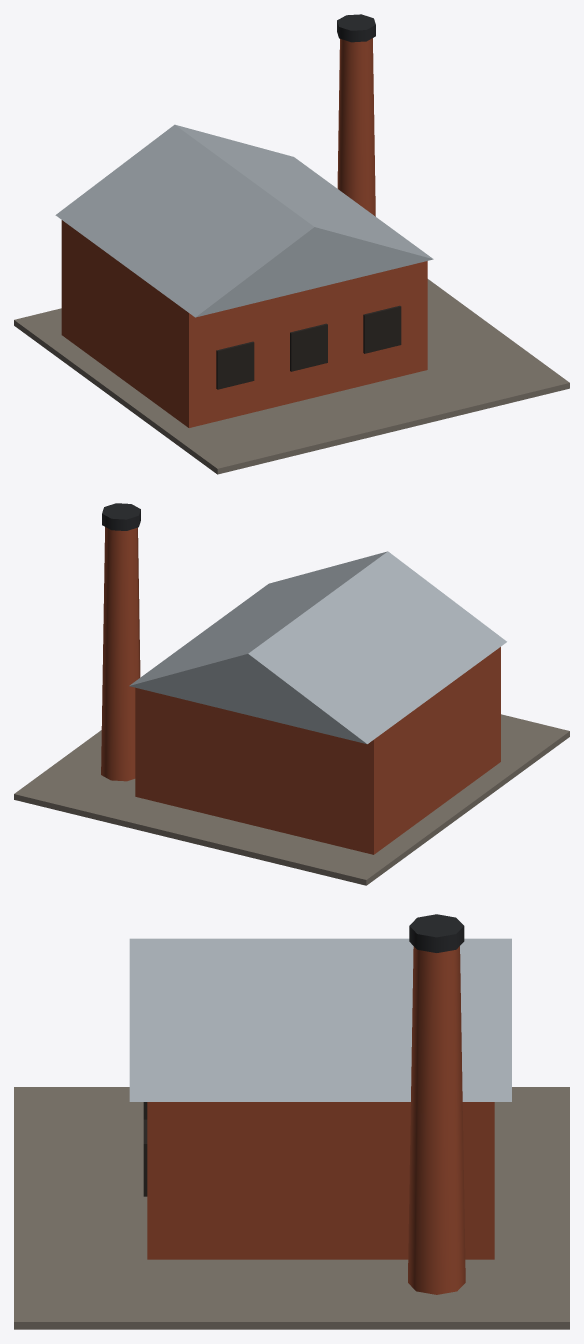
The model's file is zone_I_d2_e2.glb.
The picture shows the model from 3 angles, top to bottom: view 1: azimuth 30°, elevation 25°; view 2: azimuth 150°, elevation 25°; view 3: azimuth 270°, elevation 25°; orthographic projection. The views are drawn at different scales.
Visible parts, largest first — view 1: zone_I_d2_e2; view 2: zone_I_d2_e2; view 3: zone_I_d2_e2.
Boxes of the visible parts, x1,y1,x2,y2 form: zone_I_d2_e2: (14,14,569,474); zone_I_d2_e2: (14,503,569,885); zone_I_d2_e2: (14,914,569,1329).
Bounding box in the file's own units: 0.96 × 0.695 × 0.96.
